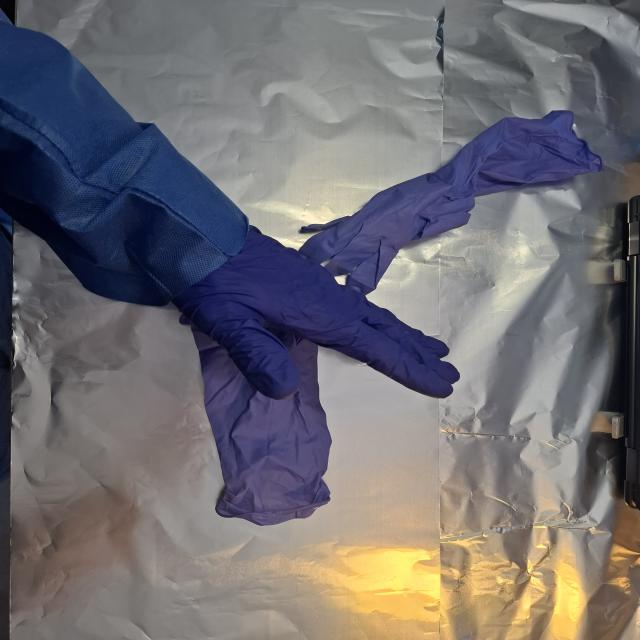glove_on: (165, 222, 463, 404)
